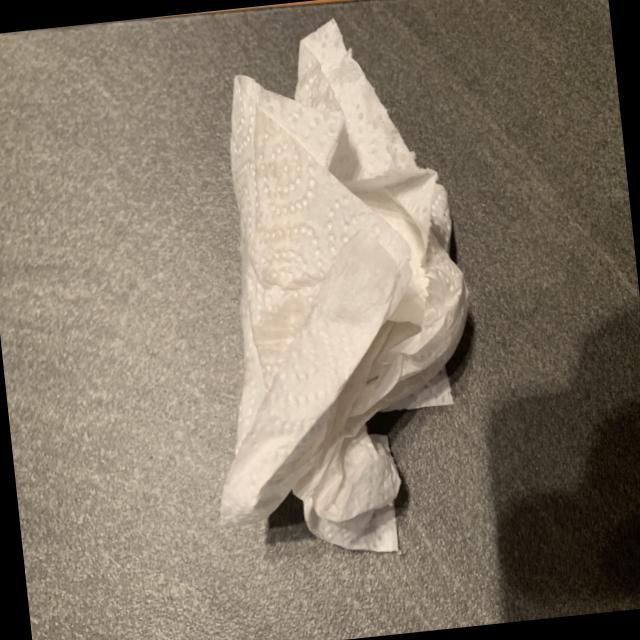organic waste: (170, 9, 491, 572)
